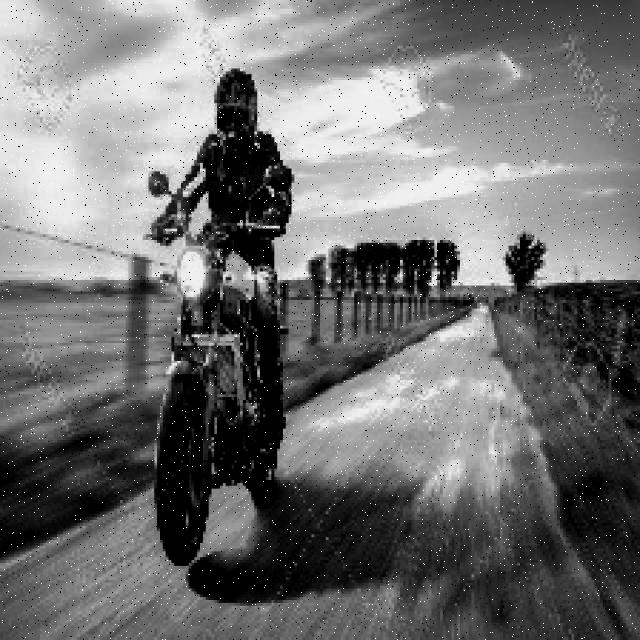Bike: (157, 230, 277, 550)
